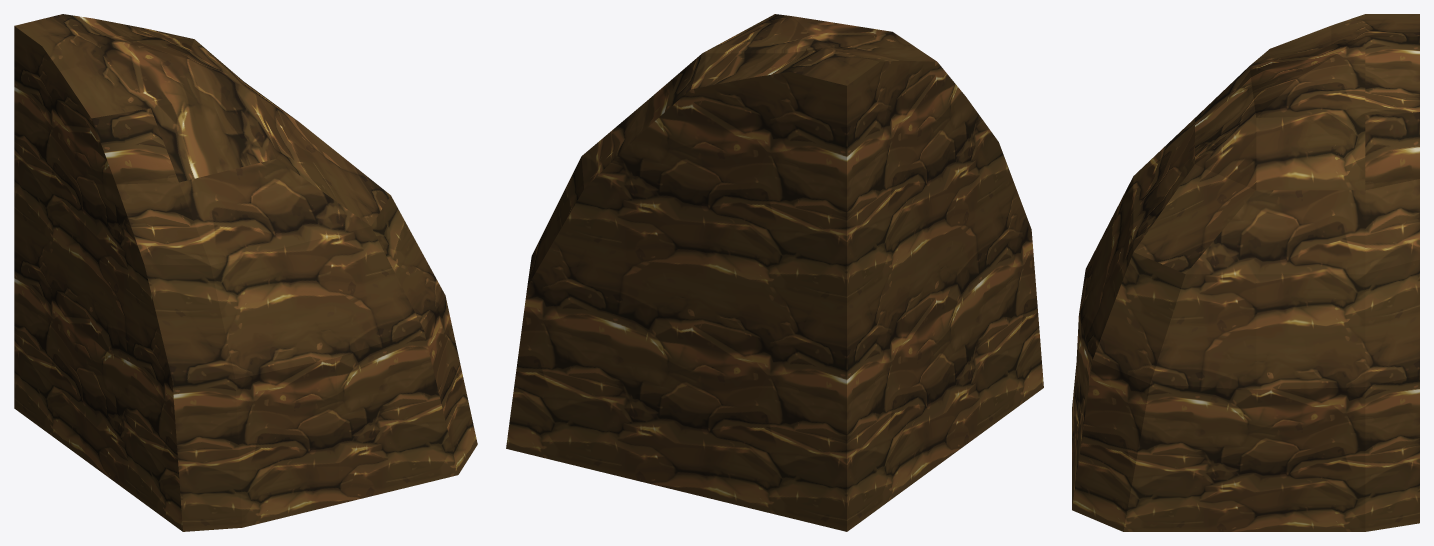
File: Mountain_Corner_1x1x3.fbx
3 renders of one model, left to right at view 1: azimuth 30°, elevation 25°; view 2: azimuth 150°, elevation 25°; view 3: azimuth 270°, elevation 25°, orthographic. The views are drawn at different scales.
Parts seen in each view (by area): view 1: Mountain_Corner_1x1x3; view 2: Mountain_Corner_1x1x3; view 3: Mountain_Corner_1x1x3.
Boxes of the visible parts, bbox=[...] form: Mountain_Corner_1x1x3: bbox=[14, 14, 477, 531]; Mountain_Corner_1x1x3: bbox=[506, 14, 1043, 531]; Mountain_Corner_1x1x3: bbox=[1072, 14, 1419, 531].
Size of the model in its own units: 3.19 by 3.19 by 3.75.
